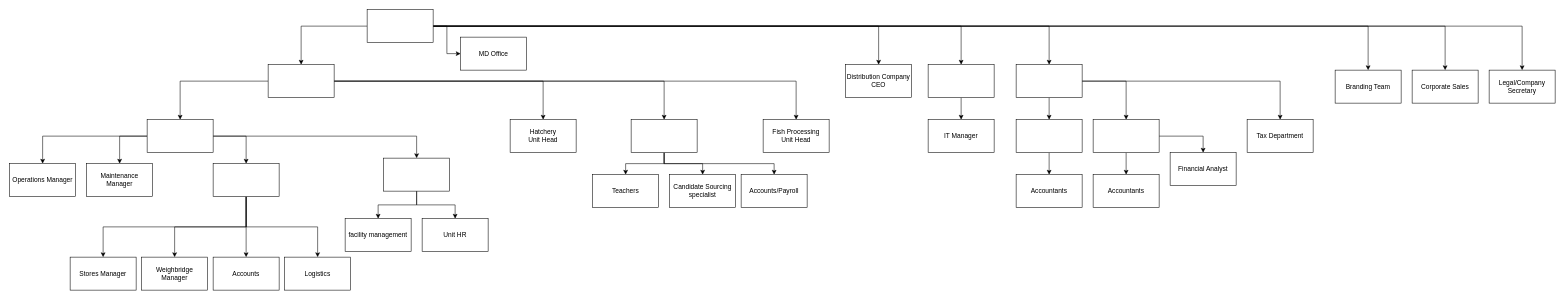
This 1565x300 diagram has some shape labels left out. The centre of each missing label's shape, as x and y in pixels:
"Admin Manager" belongs at pixel 416 174.
"CFO" belongs at pixel 1049 81.
"Commercial Manager" belongs at pixel 246 180.
"COO" belongs at pixel 301 81.
"CTO" belongs at pixel 961 81.
"Fish Feedmill Unit Head" belongs at pixel 180 136.
"Fish School Head" belongs at pixel 664 136.
"FP&A Manager" belongs at pixel 1126 136.
"GMD" belongs at pixel 400 26.
"Treasury manager" belongs at pixel 1049 136.
